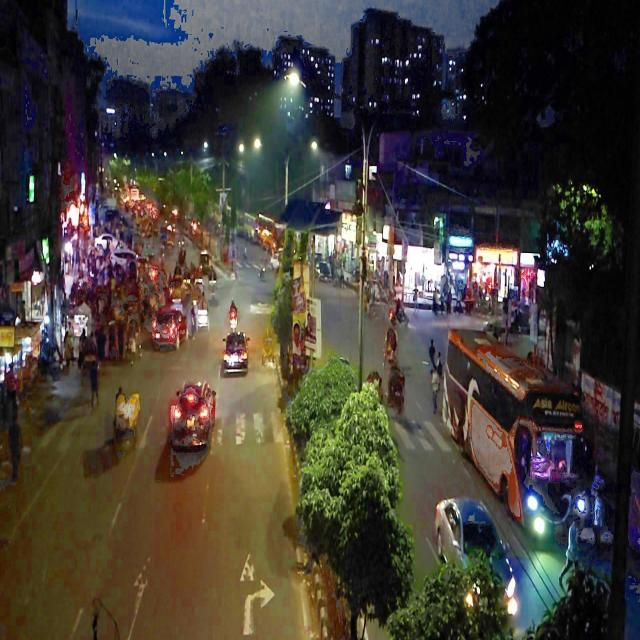black: (174, 380, 217, 453), (223, 330, 249, 376)
maroon: (151, 310, 189, 350)
